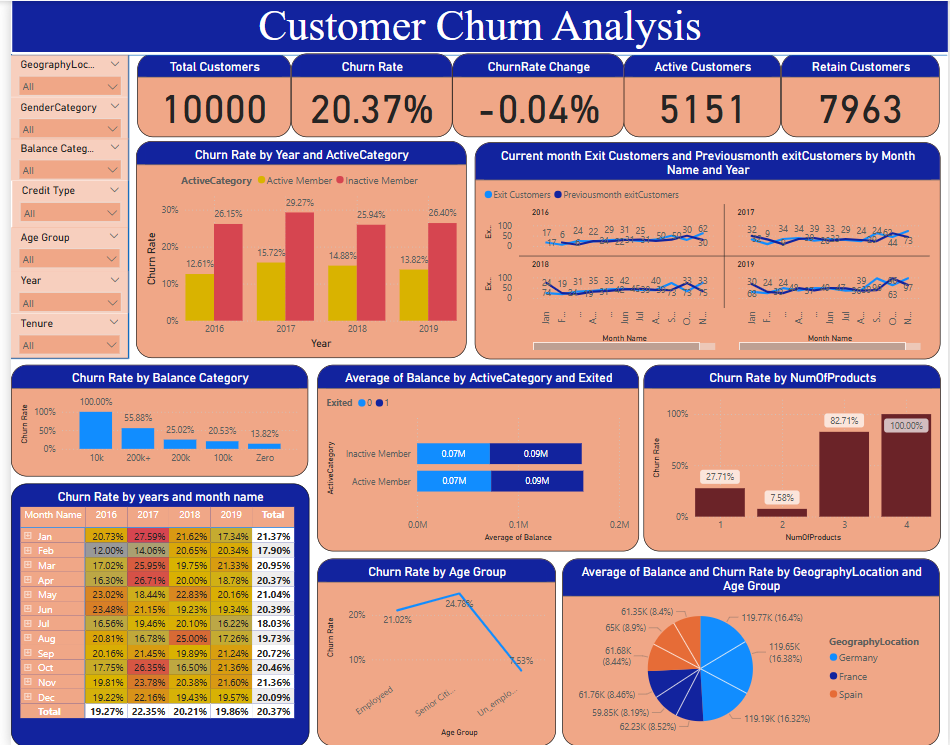

The dashboard page shown, as its layout file describes it:
{"tool":"powerbi","page":{"name":"Churn Customers ","canvas":[1280,1020],"ordinal":0},"visuals":[{"type":"textbox","box":[10,0,280,280],"z":0},{"type":"card","title":"Active Customers","fields":{"Values":["Calculations.Active Customers"]},"box":[838,72,215,114],"z":1000},{"type":"card","title":"Total Customers","fields":{"Values":["Calculations.Total Customers"]},"box":[172,72,210,114],"z":2000},{"type":"card","title":"Retain Customers","fields":{"Values":["Calculations.Retain Customers"]},"box":[1053,72,217,114],"z":3000},{"type":"shape","box":[23,74,277,415],"z":4000},{"type":"shape","box":[0,0,1280.1,147],"z":5000},{"type":"shape","box":[0,466.1,160.9,44.1],"z":6000},{"type":"clusteredColumnChart","fields":{"Category":["Datemaster.Year","Datemaster.Month Name"],"Series":["ActiveCustomer.ActiveCategory"],"Y":["Calculations.Churn Rate"]},"box":[171.7,191.9,451.8,296.8],"z":7000},{"type":"textbox","title":"Customer Churn Analysis","box":[1.2,0,1278.8,73.6],"z":8000},{"type":"slicer","fields":{"Values":["Geography.GeographyLocation"]},"box":[0,73.9,160.9,57.2],"z":9000},{"type":"slicer","fields":{"Values":["Gender.GenderCategory"]},"box":[0,131.1,160.9,57.2],"z":10000},{"type":"slicer","fields":{"Values":["Bank_Churn.Credit Type"]},"box":[1.2,245.6,158.5,64.4],"z":11000},{"type":"slicer","fields":{"Values":["Datemaster.Year"]},"box":[0,369.5,160.9,57.2],"z":12000},{"type":"card","title":"Churn Rate","fields":{"Values":["Calculations.Churn Rate"]},"box":[382,72,221,114],"z":13000},{"type":"lineChart","title":"Current month Exit Customers and Previousmonth exitCustomers by Month Name and Year","fields":{"Category":["Datemaster.Month Name"],"Y":["Calculations.Exit Customers","Calculations.Previousmonth exitCustomers"],"Rows":["Datemaster.Year"]},"box":[634.2,193.1,636.5,296.8],"z":14000},{"type":"slicer","fields":{"Values":["Bank_Churn.Balance Category"]},"box":[0,188.3,160.9,57.2],"z":15000},{"type":"slicer","fields":{"Values":["Bank_Churn.Age Group"]},"box":[0,309.9,159.7,59.6],"z":16000},{"type":"slicer","fields":{"Values":["Bank_Churn.Tenure"]},"box":[0,426.7,159.7,62],"z":17000},{"type":"pivotTable","title":"Churn Rate by years and month name","fields":{"Values":["Calculations.Churn Rate"],"Rows":["Datemaster.Month Name","Geography.GeographyLocation","Gender.GenderCategory"],"Columns":["Datemaster.Year"]},"box":[0,659.2,407.7,361.2],"z":18000},{"type":"barChart","fields":{"Category":["Bank_Churn.Credit Type","Bank_Churn.Age Group","Gender.GenderCategory","ActiveCustomer.ActiveCategory","Geography.GeographyLocation"],"Series":["Bank_Churn.Exited"],"Y":["Avg(Bank_Churn.Balance)"]},"box":[418.4,497.1,439.9,255.1],"z":19000},{"type":"lineClusteredColumnComboChart","fields":{"Category":["Bank_Churn.NumOfProducts","Bank_Churn.Tenure"],"Y":["Calculations.Churn Rate"]},"box":[864.2,497.1,406.5,255.1],"z":20000},{"type":"lineChart","fields":{"Category":["Bank_Churn.Age Group","ActiveCustomer.ActiveCategory","Bank_Churn.Balance Category","CreditCard.Card Category"],"Y":["Calculations.Churn Rate"]},"box":[418,763,326,257],"z":21000},{"type":"clusteredColumnChart","fields":{"Category":["Bank_Churn.Balance Category"],"Y":["Calculations.Churn Rate"]},"box":[0,497.1,406.5,152.6],"z":22000},{"type":"card","title":"ChurnRate Change","fields":{"Values":["Calculations.ChurnRate Change"]},"box":[603,72,235,114],"z":23000},{"type":"pieChart","fields":{"Category":["Geography.GeographyLocation","Gender.GenderCategory"],"Y":["Avg(Bank_Churn.Balance)"],"Series":["Bank_Churn.Age Group"]},"box":[754,763,516,257],"z":24000}]}

Visuals, with their boxes in screenshot pixels (x1, y1, x2, y2), scaled from the page's 1280x1020 canvas onto the 950x745 screenshot:
textbox: pyautogui.locateOnScreen(7, 0, 215, 205)
"Active Customers" card: pyautogui.locateOnScreen(622, 53, 782, 136)
"Total Customers" card: pyautogui.locateOnScreen(128, 53, 284, 136)
"Retain Customers" card: pyautogui.locateOnScreen(782, 53, 943, 136)
shape: pyautogui.locateOnScreen(17, 54, 223, 357)
shape: pyautogui.locateOnScreen(0, 0, 949, 107)
shape: pyautogui.locateOnScreen(0, 340, 119, 373)
clusteredColumnChart - Datemaster.Year x Datemaster.Month Name: pyautogui.locateOnScreen(127, 140, 463, 357)
"Customer Churn Analysis" textbox: pyautogui.locateOnScreen(1, 0, 949, 54)
slicer - Geography.GeographyLocation: pyautogui.locateOnScreen(0, 54, 119, 96)
slicer - Gender.GenderCategory: pyautogui.locateOnScreen(0, 96, 119, 138)
slicer - Bank_Churn.Credit Type: pyautogui.locateOnScreen(1, 179, 119, 226)
slicer - Datemaster.Year: pyautogui.locateOnScreen(0, 270, 119, 312)
"Churn Rate" card: pyautogui.locateOnScreen(284, 53, 448, 136)
"Current month Exit Customers and Previousmonth exitCustomers by Month Name and Year" lineChart: pyautogui.locateOnScreen(471, 141, 943, 358)
slicer - Bank_Churn.Balance Category: pyautogui.locateOnScreen(0, 138, 119, 179)
slicer - Bank_Churn.Age Group: pyautogui.locateOnScreen(0, 226, 119, 270)
slicer - Bank_Churn.Tenure: pyautogui.locateOnScreen(0, 312, 119, 357)
"Churn Rate by years and month name" pivotTable: pyautogui.locateOnScreen(0, 481, 303, 744)
barChart - Bank_Churn.Credit Type x Bank_Churn.Age Group: pyautogui.locateOnScreen(311, 363, 637, 549)
lineClusteredColumnComboChart - Bank_Churn.NumOfProducts x Bank_Churn.Tenure: pyautogui.locateOnScreen(641, 363, 943, 549)
lineChart - Bank_Churn.Age Group x ActiveCustomer.ActiveCategory: pyautogui.locateOnScreen(310, 557, 552, 744)
clusteredColumnChart - Bank_Churn.Balance Category x Calculations.Churn Rate: pyautogui.locateOnScreen(0, 363, 302, 475)
"ChurnRate Change" card: pyautogui.locateOnScreen(448, 53, 622, 136)
pieChart - Geography.GeographyLocation x Gender.GenderCategory: pyautogui.locateOnScreen(560, 557, 943, 744)
